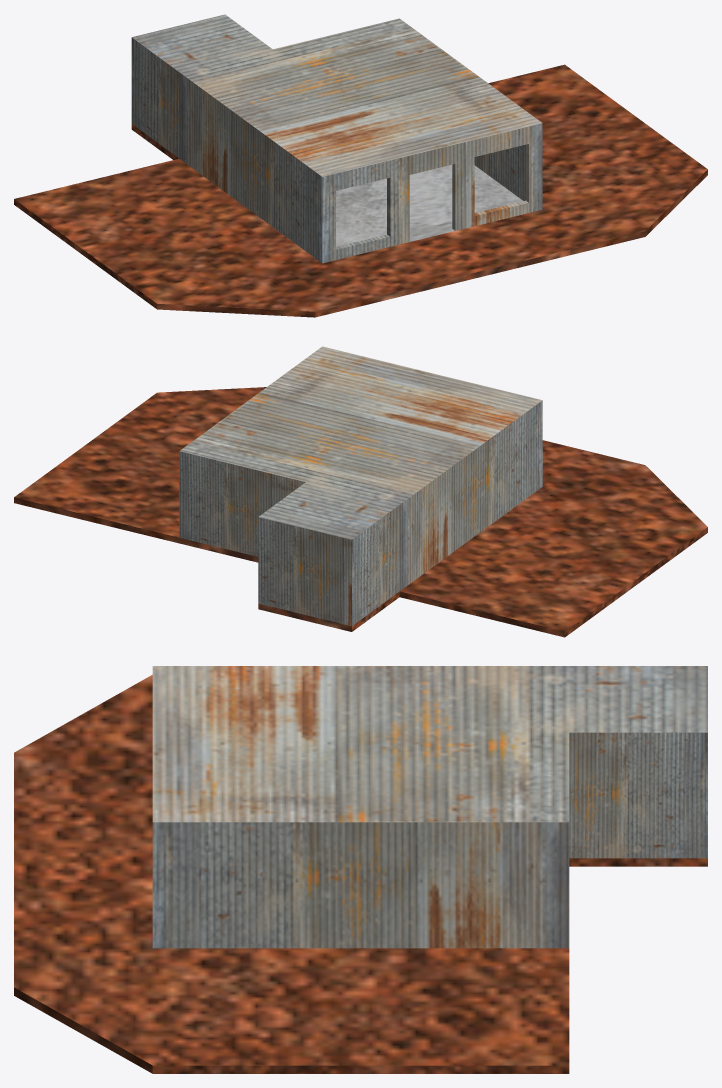
The model's file is V2gameMap.fbx.
The picture shows the model from 3 angles, top to bottom: view 1: azimuth 30°, elevation 25°; view 2: azimuth 150°, elevation 25°; view 3: azimuth 270°, elevation 25°; orthographic projection. The views are drawn at different scales.
Visible parts, largest first — view 1: Map; view 2: Map; view 3: Map.
Boxes of the visible parts, x1,y1,x2,y2 form: Map: (14, 14, 707, 317); Map: (14, 346, 707, 637); Map: (14, 666, 707, 1073).
Size of the model in its own units: 2000 by 320 by 1500.
Materials: 1 (1 with a texture image).
